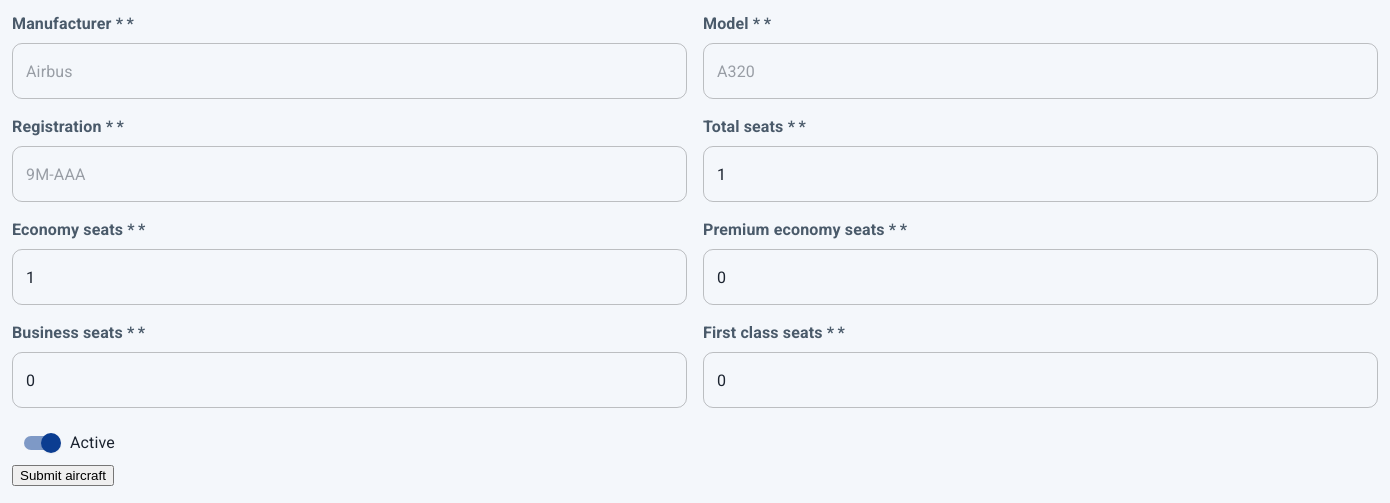
Test: AircraftForm › toggles the active switch label
Check: the text "Active" is shown, box x1=70 y1=430 x2=115 y2=456
Click the switch labelled "Active" at (70, 443), box x1=24 y1=433 x2=115 y2=453
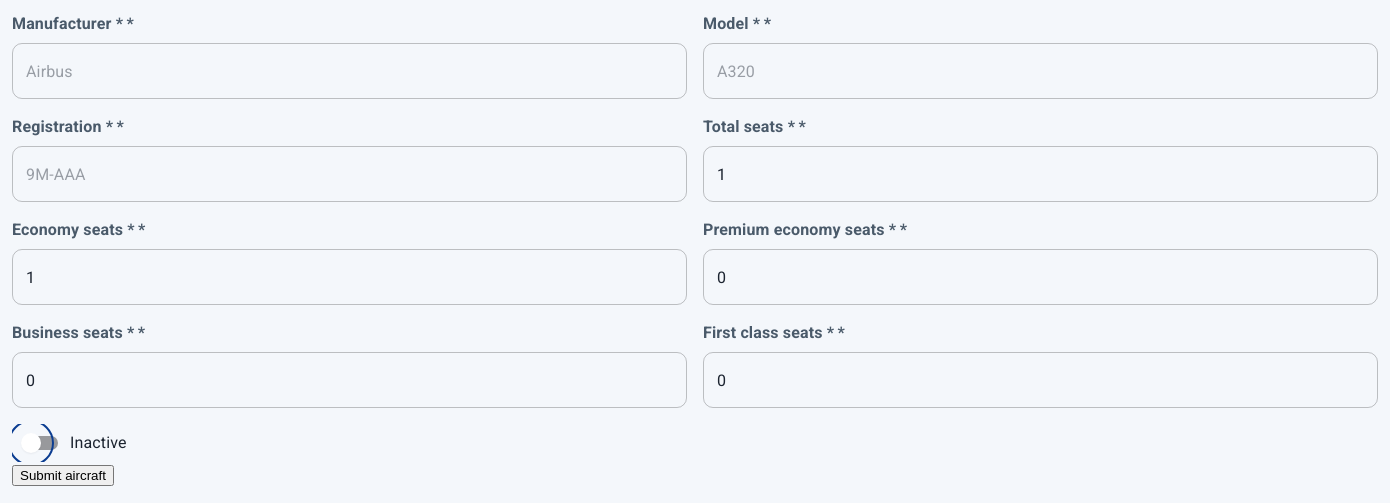
Check: the switch labelled "active" is not checked, box x1=21 y1=433 x2=127 y2=453
Check: the text "Inactive" is shown, box x1=70 y1=430 x2=127 y2=456
